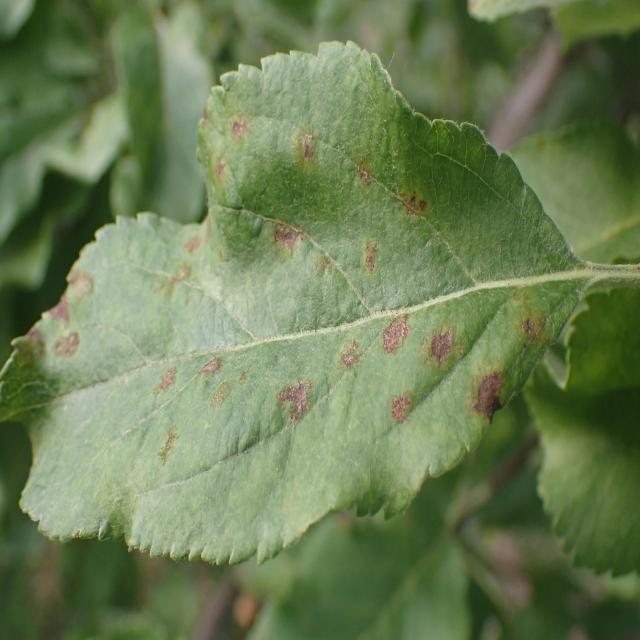scab: (9, 92, 580, 517)
